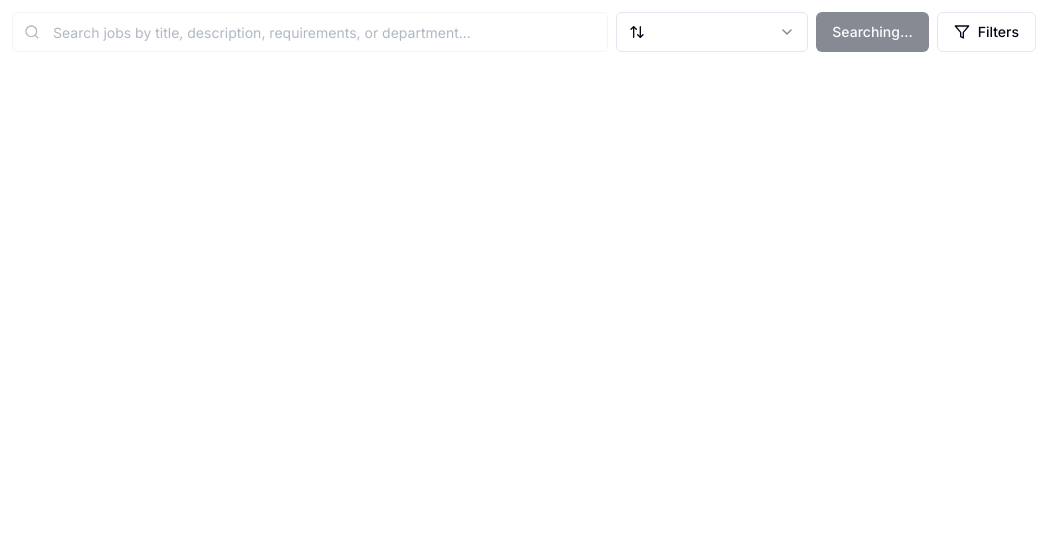
Test case: JobSearchFilters › Apply Filters Button › should disable apply button when loading
Note: Open advanced filters
What coordinates should you click on to do the following:
click the button "Filters"
I would click on:
 (986, 32)
Its box is left=937, top=12, right=1036, bottom=52.
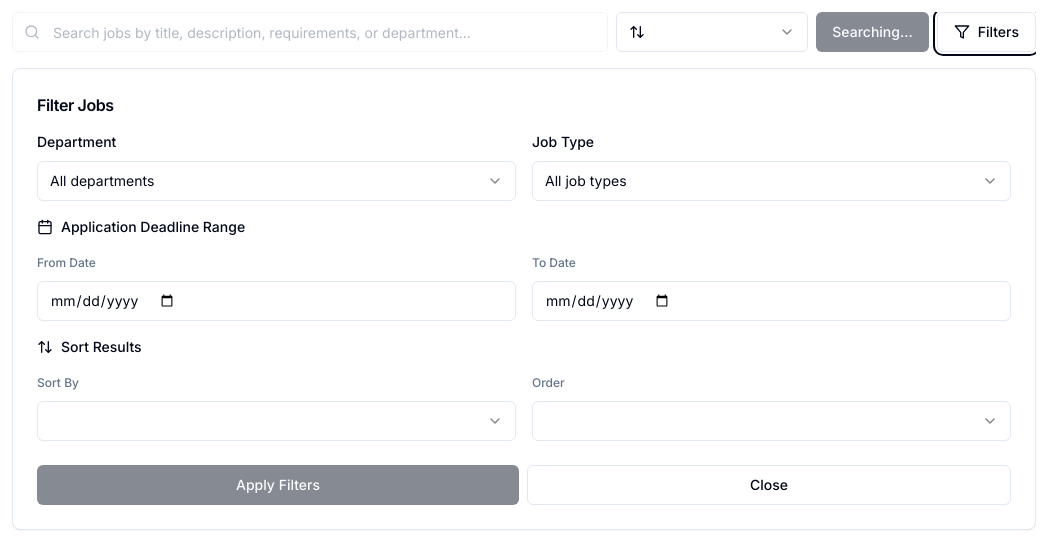
Now the button "Apply Filters" is disabled, box left=37, top=465, right=519, bottom=505
